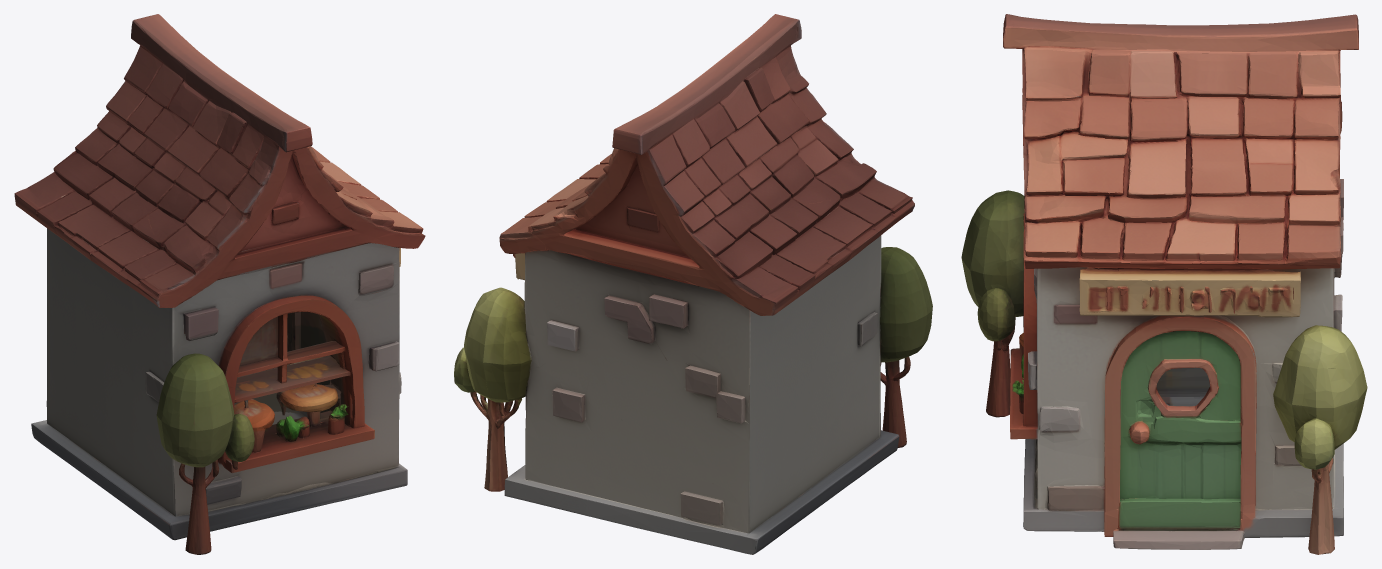
Rendered from shop.glb.
3 views of the same model, side by side, from view 1: azimuth 30°, elevation 25°; view 2: azimuth 150°, elevation 25°; view 3: azimuth 270°, elevation 25° (orthographic). The views are drawn at different scales.
Visible parts, largest first — view 1: world; view 2: world; view 3: world.
Part boxes in pixels (<box>): world: <box>14,14,425,554</box>; world: <box>454,14,932,554</box>; world: <box>961,14,1367,554</box>.
Size of the model in its own units: 0.8636 by 0.9995 by 0.8199.
1 material, 1 textured.
